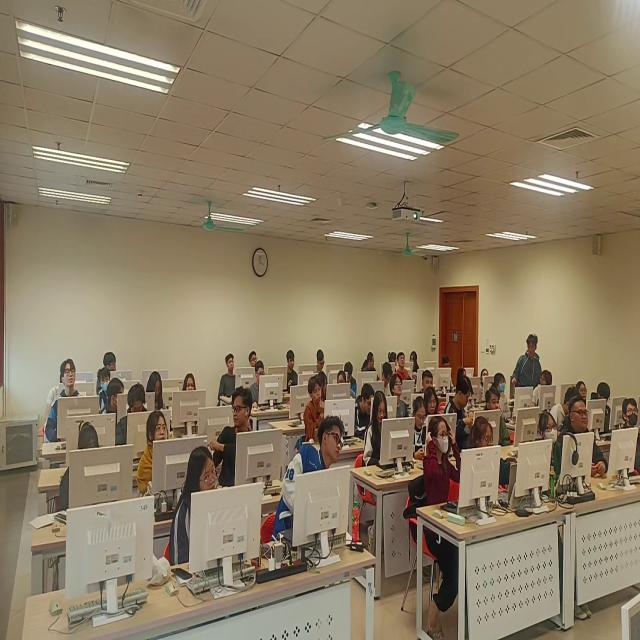raise_head: (180, 448, 230, 573), (141, 413, 188, 498), (424, 423, 463, 521), (49, 358, 89, 436), (480, 390, 513, 444), (570, 398, 593, 465), (541, 412, 566, 469), (620, 399, 640, 458), (305, 380, 329, 429), (221, 355, 246, 400), (179, 372, 204, 415), (390, 378, 411, 425), (95, 369, 114, 406), (396, 350, 411, 384), (421, 371, 440, 392)
stand: (276, 424, 346, 543), (514, 333, 541, 413)
using_computer: (63, 426, 121, 510), (471, 420, 512, 482), (368, 392, 398, 473), (122, 386, 153, 446), (448, 383, 475, 444), (594, 381, 623, 435), (249, 366, 276, 413), (147, 372, 171, 417), (283, 348, 302, 398), (334, 370, 355, 402), (361, 353, 380, 386), (480, 366, 496, 397), (316, 348, 330, 378), (249, 350, 260, 371)
using_phone: (412, 401, 432, 460), (352, 385, 374, 437)
